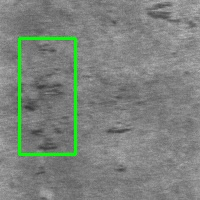rolled-in_scale: (20, 39, 75, 154), (143, 1, 187, 23)
